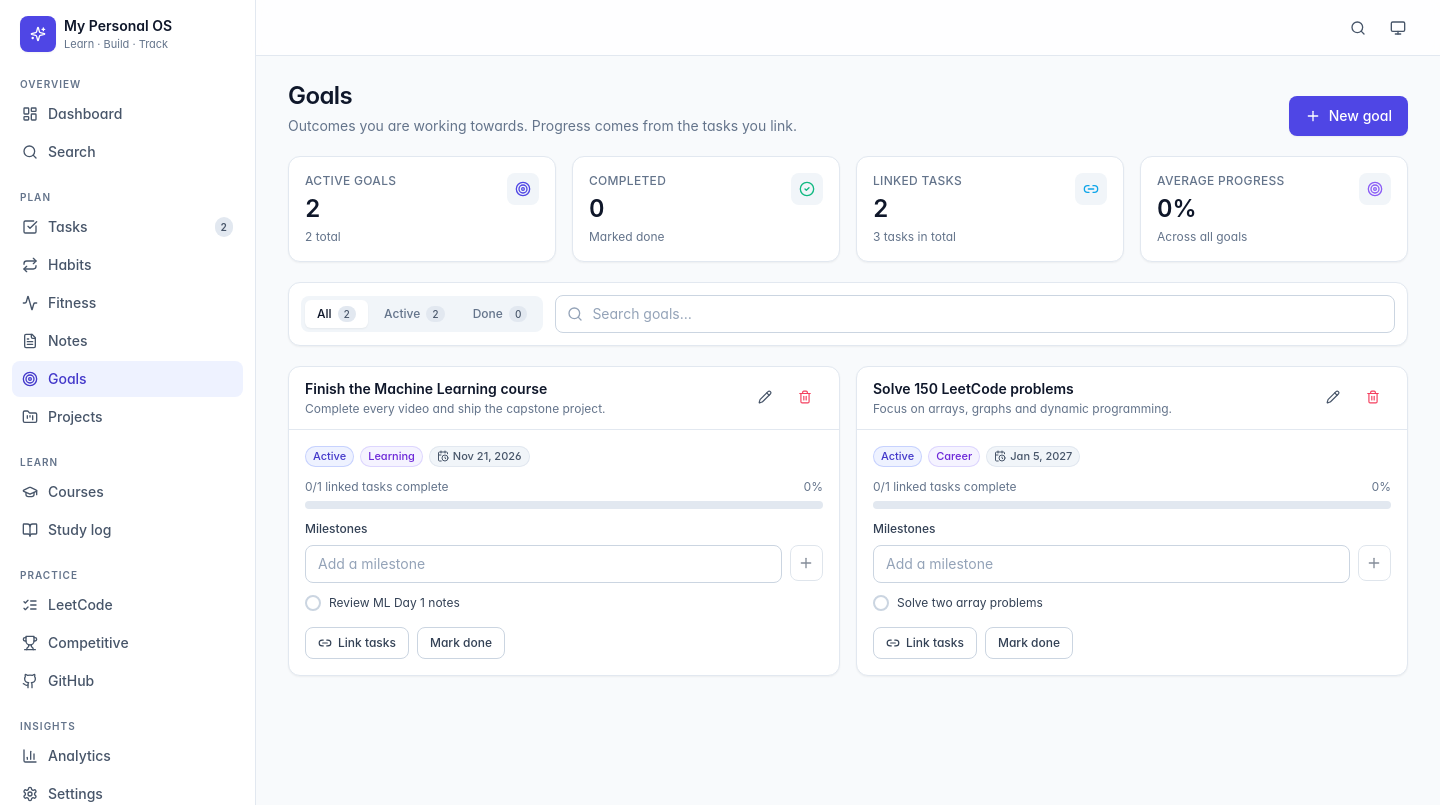
Test case: projects and goals › creates a goal with a category and target date
Expected: the heading "Goals" is shown, 288,81 -> 352,110
Click the button "New goal": [1348, 116] box 1289,96 -> 1408,136
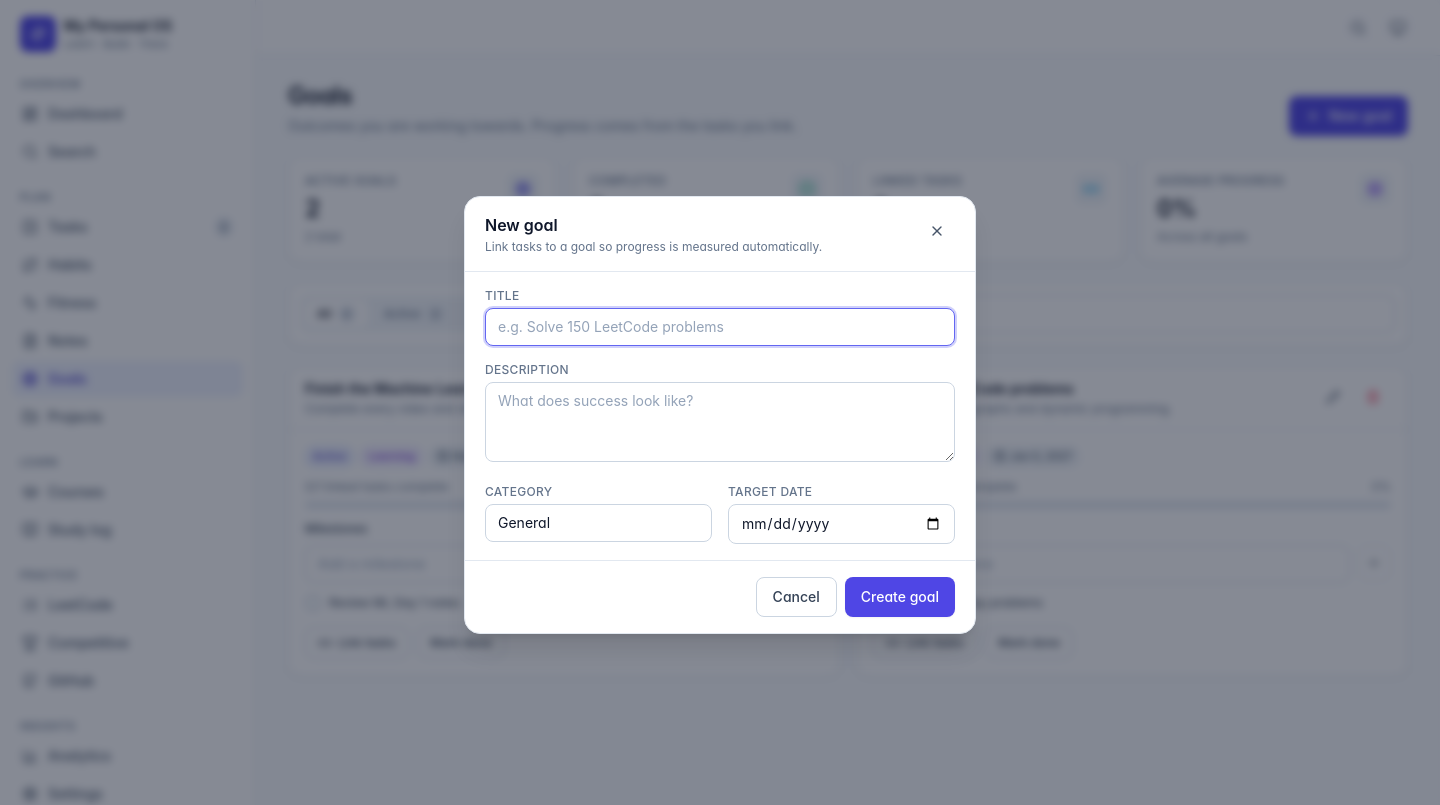
In the field labelled "Title": [720, 327] box 485,308 -> 955,346, type "Read 12 books"
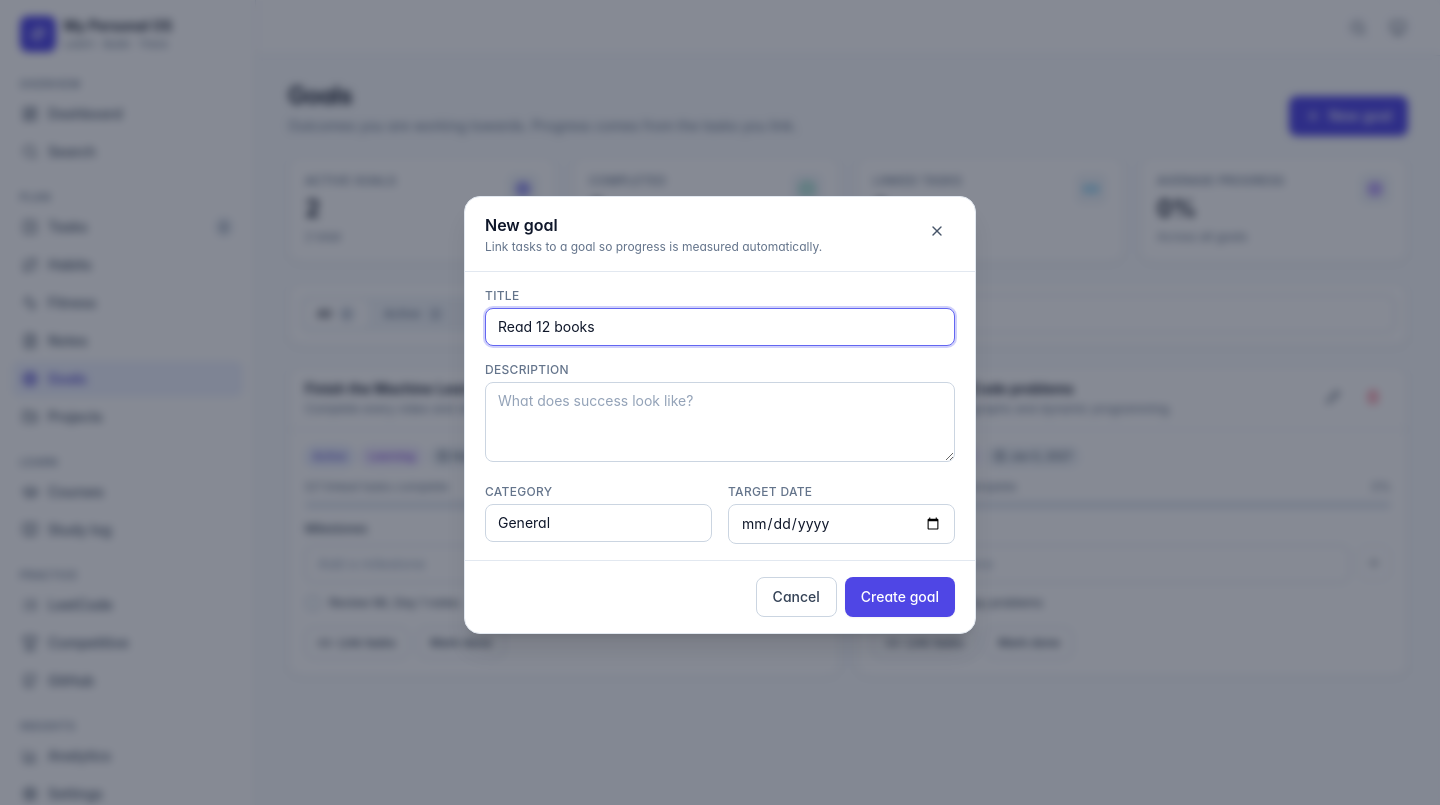
Replace the text in the field labelled "Category" with "Personal": [598, 523] box 485,504 -> 712,542
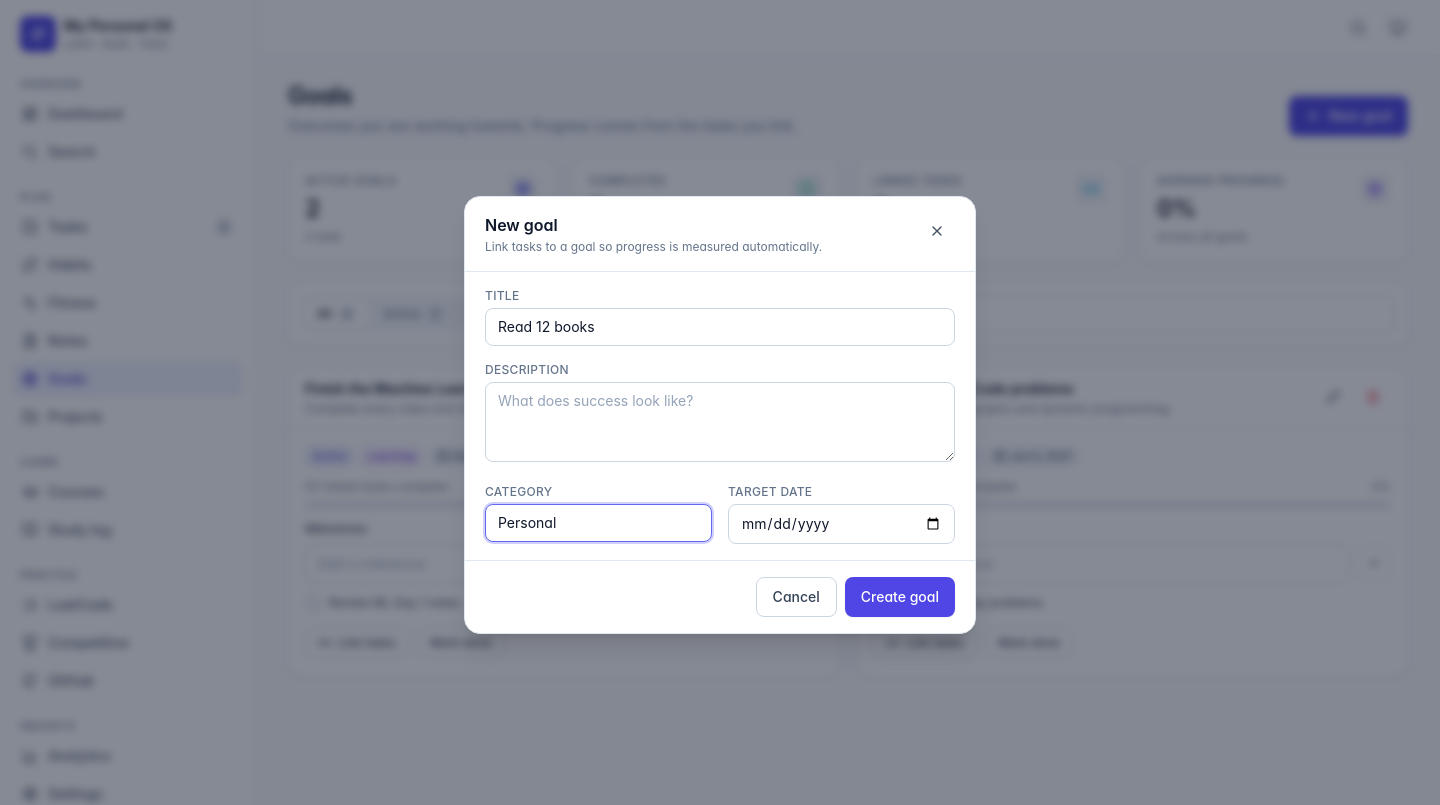
In the date field labelled "Target date": [842, 524] box 728,504 -> 955,544, type "2026-12-31"
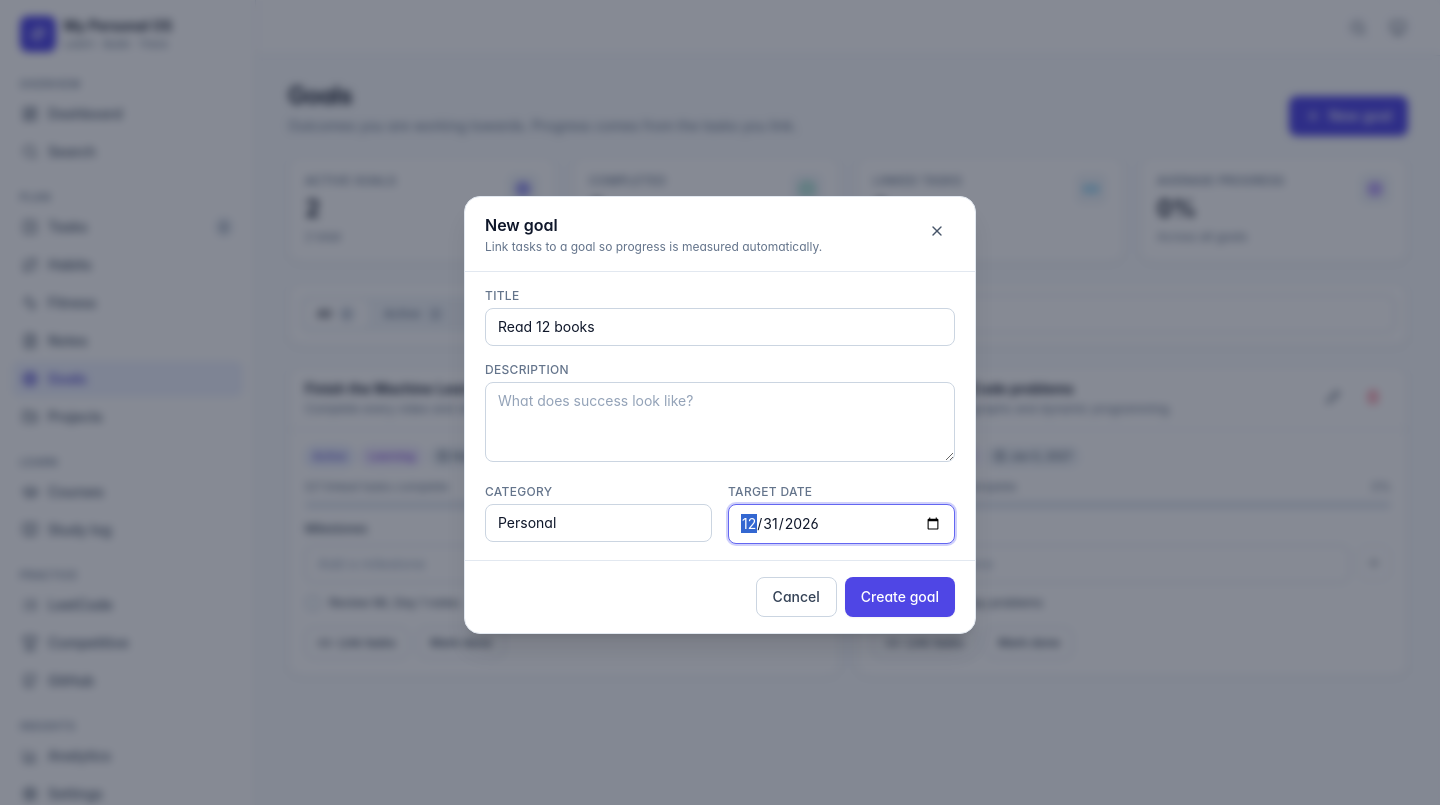
Click the button "Create goal": [900, 597] box 845,577 -> 955,617
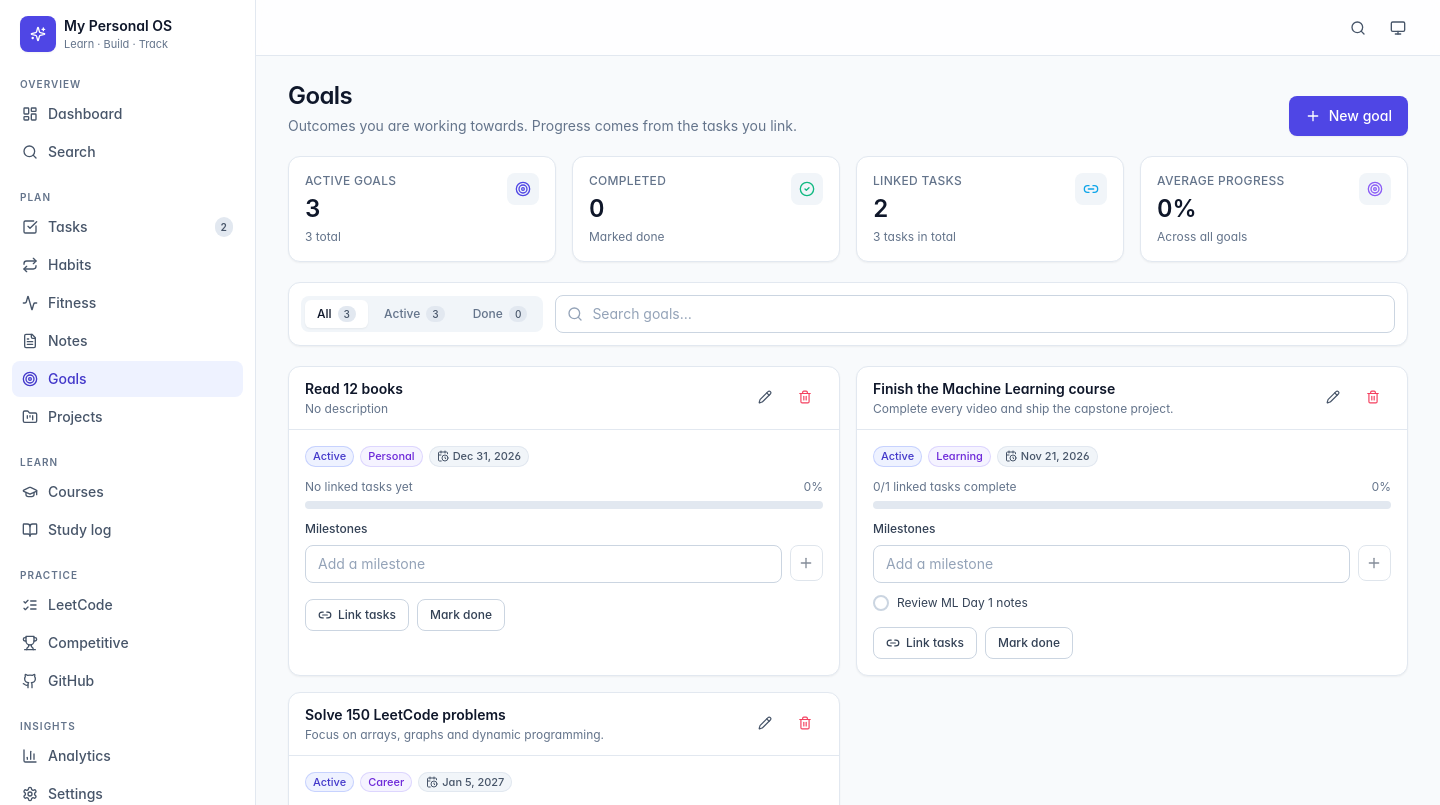
Result: the text "Personal" is shown at 360,446 -> 423,466
